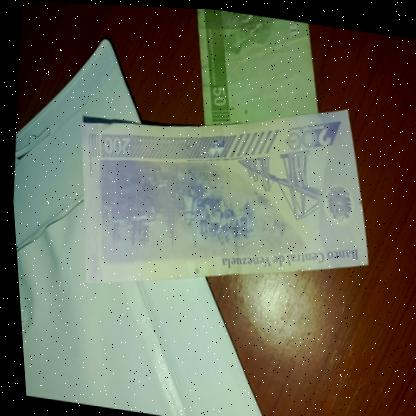two_hundred-back-vef: (59, 67, 384, 323)
